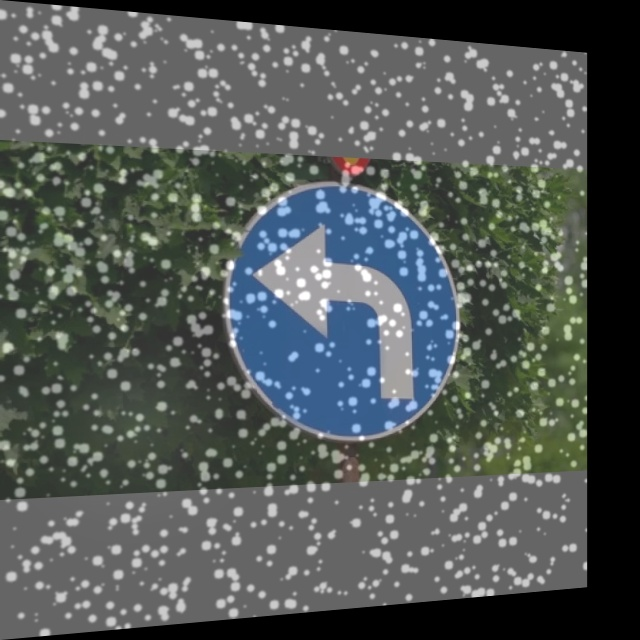Compulsory_Turn_Left_Ahead: (222, 177, 458, 441)
